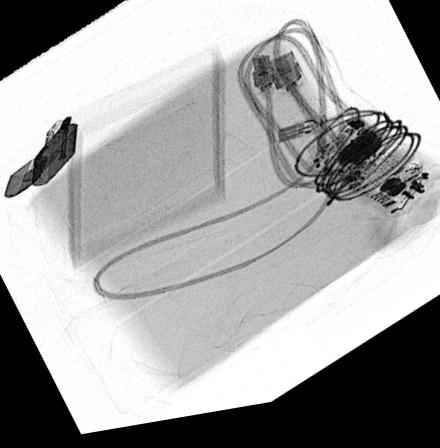Lighter: (3, 118, 79, 198)
